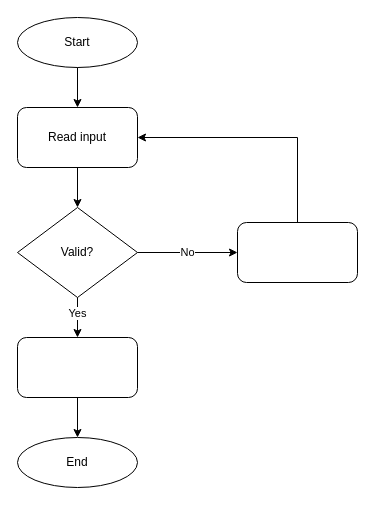
The diagram is 375 pixels wide and 505 high, and some of its shapes have lost their labels. The shapes that lost their labels are listed below. From the top down, each one's box as (x1, y1, x2, y2) in pixels, then its label:
(236, 222, 358, 282): Show error
(16, 336, 138, 398): Process
